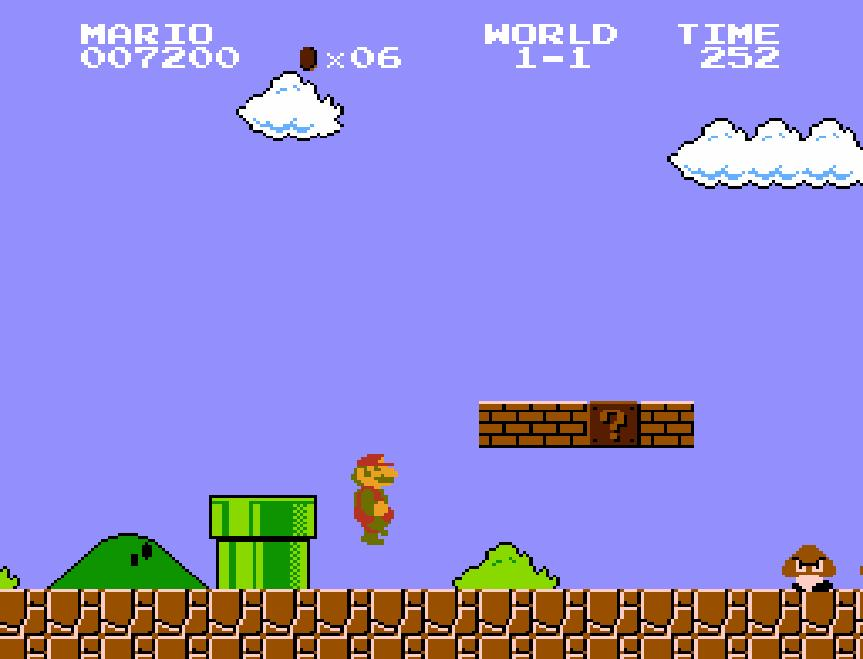big_mario: (345, 449, 403, 547)
